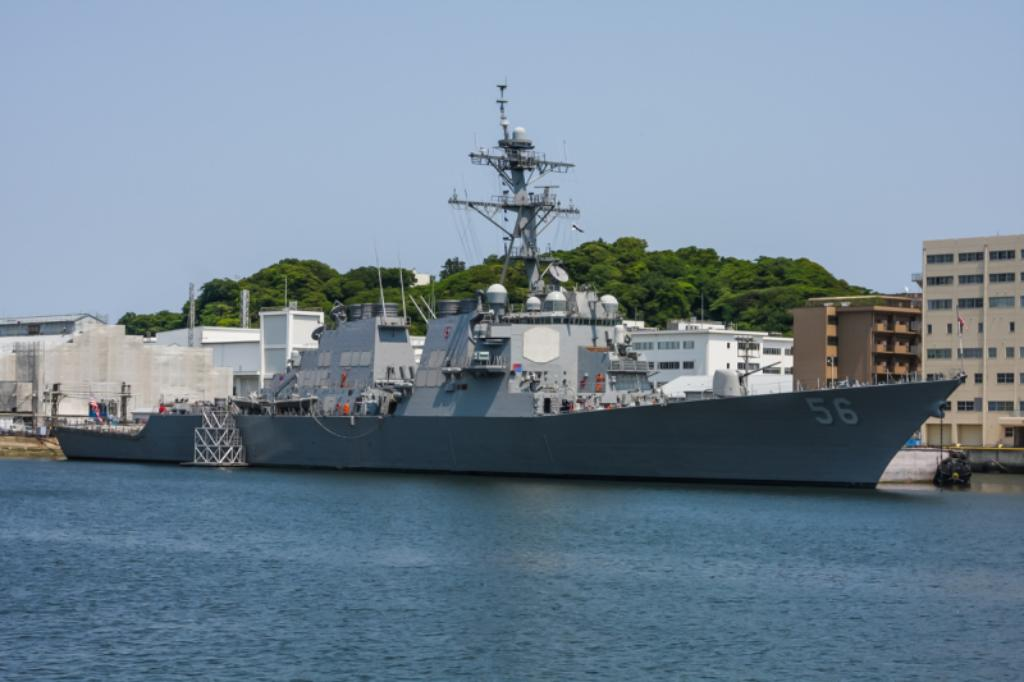Warship: (48, 76, 964, 490)
